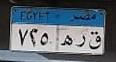2: (29, 27, 39, 46)
5: (40, 33, 50, 46)
7: (16, 29, 28, 46)
haa: (60, 35, 73, 46)
qaaf: (87, 30, 103, 50)
raa: (74, 36, 86, 48)
